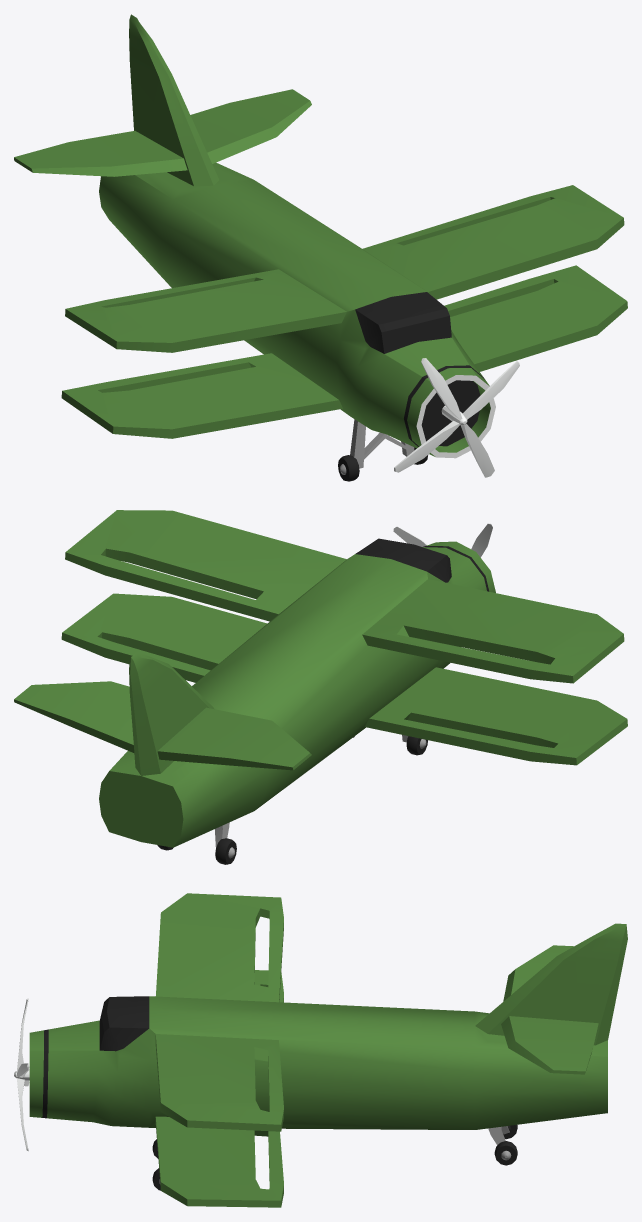
Rendered from antonov 1.fbx.
3 renders of one model, top to bottom at view 1: azimuth 30°, elevation 25°; view 2: azimuth 150°, elevation 25°; view 3: azimuth 270°, elevation 25°, orthographic. The views are drawn at different scales.
Visible parts, largest first — view 1: Cube, Cube.001; view 2: Cube, Cube.001; view 3: Cube, Cube.001.
Boxes of the visible parts, x1,y1,x2,y2 form: Cube: (14, 14, 627, 481); Cube.001: (394, 358, 519, 477); Cube: (14, 510, 627, 864); Cube.001: (393, 523, 492, 557); Cube: (29, 893, 627, 1207); Cube.001: (14, 998, 29, 1151).
Bounding box in the file's own units: 1074 × 545 × 1208.
